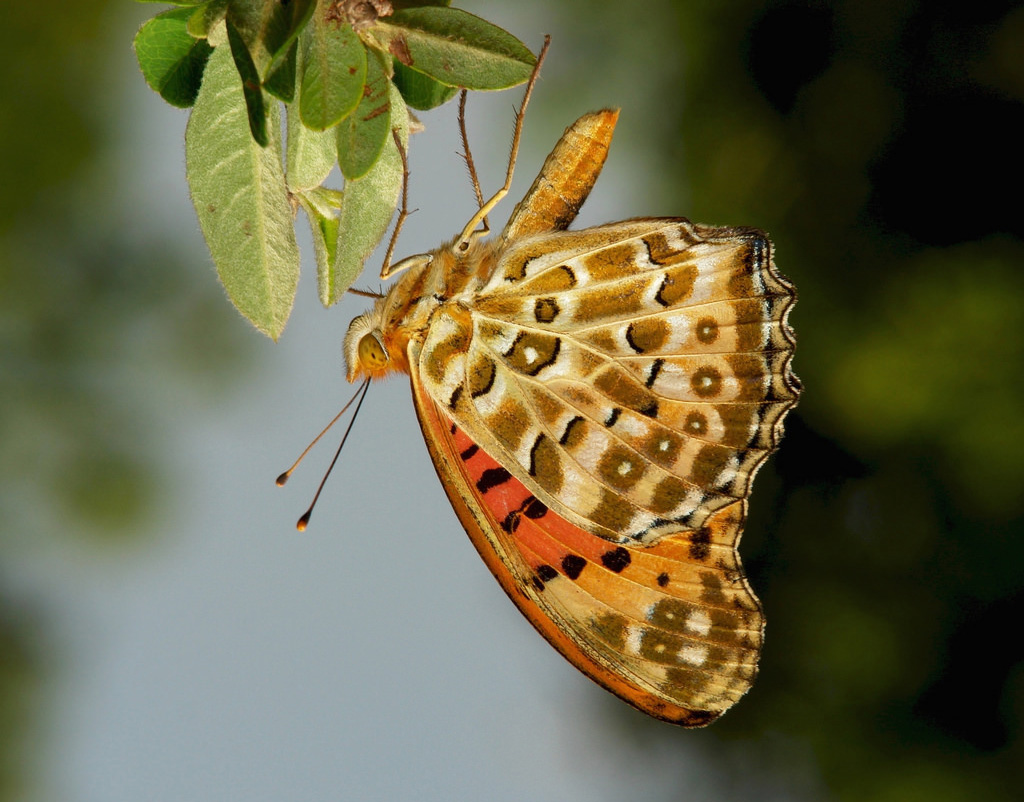Argyreus hyperbius: (256, 24, 803, 730)
butterfly: (254, 22, 801, 728)
